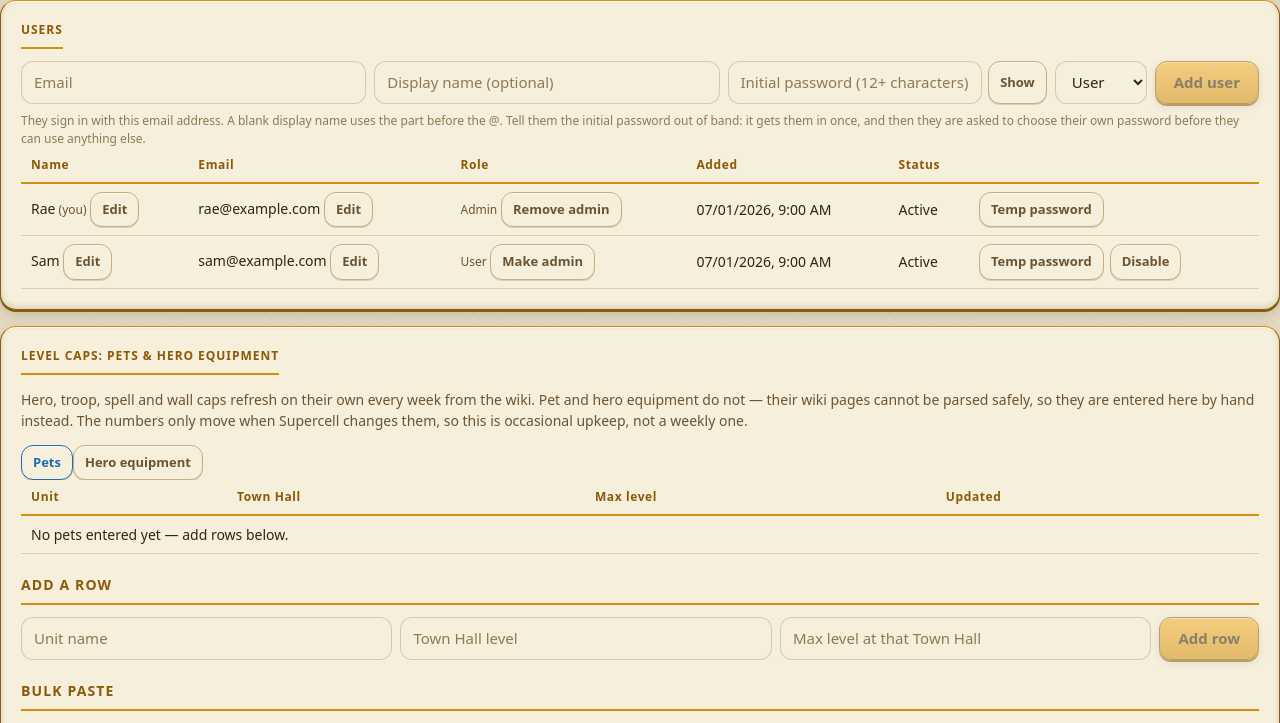
Test: the temporary password › admits a copy did not happen rather than letting the password be lost
Check: the text "Rae" is shown, box [31,198,56,218]
Check: the text "Sam" is shown, box [31,251,60,270]
Click the button "Temp password" in the row of "sam@example.com": [1041, 262] box [979,244,1104,280]
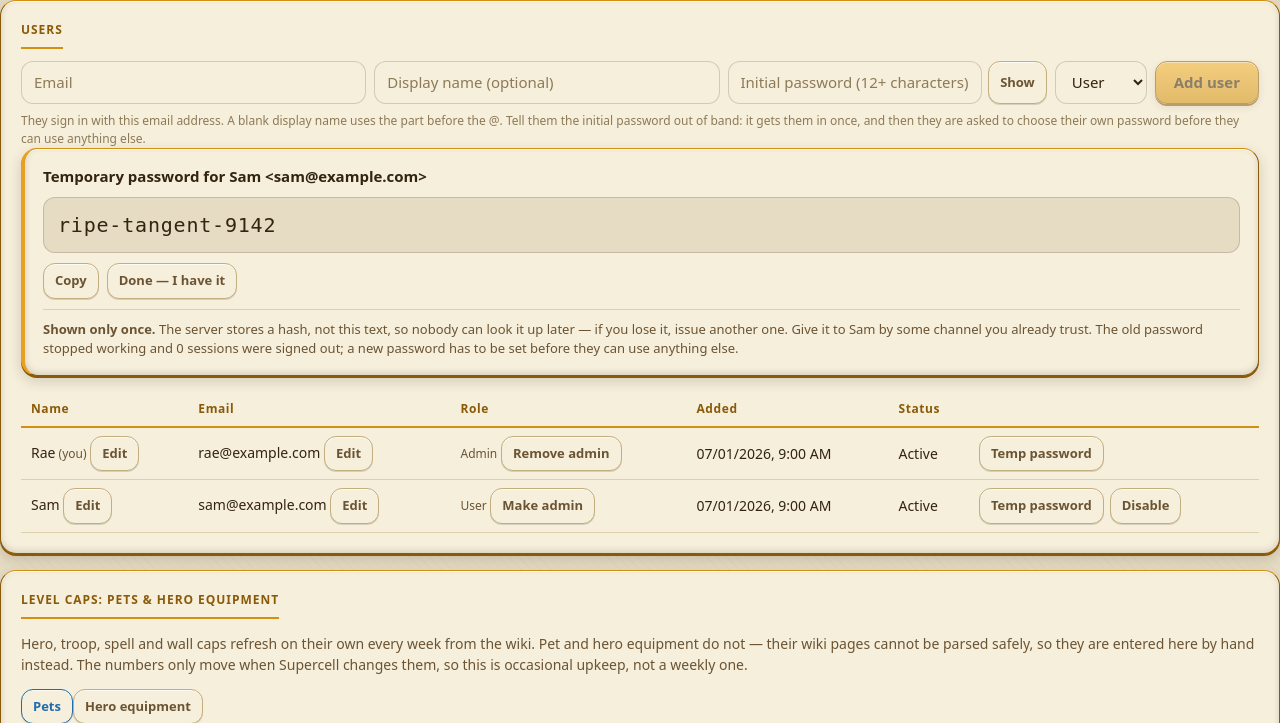
Check: the text "ripe-tangent-9142" is shown, box [43,197,1240,253]
Click the button "Copy": [71, 281] box [43,263,99,298]
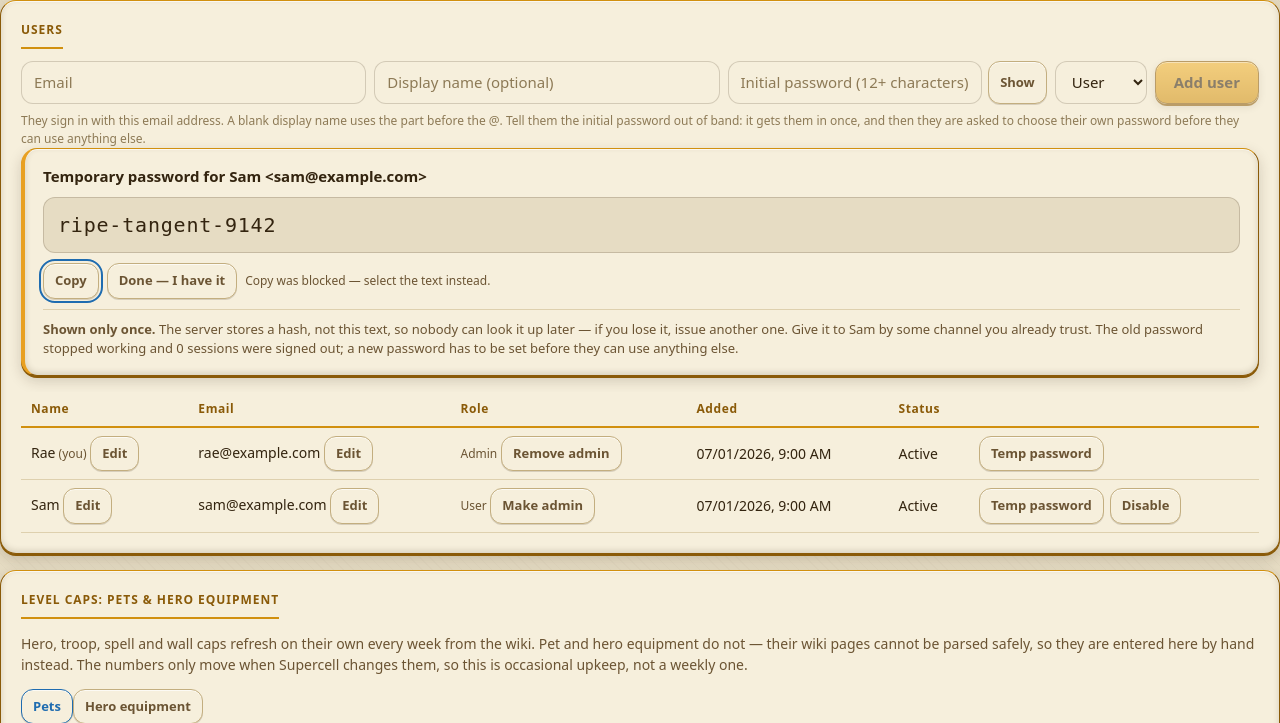
Check: the text "ripe-tangent-9142" is shown, box [43,197,1240,253]
Check: the text "Copy was blocked — select the text instead." is shown, box [245,272,490,290]
